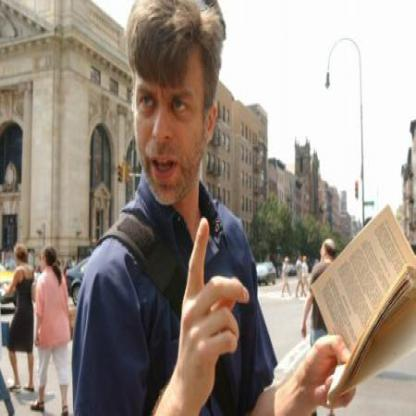face: (136, 1, 210, 208)
